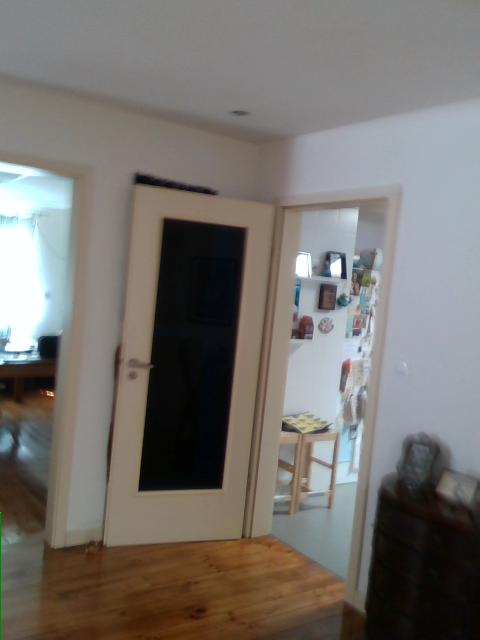open_door: (236, 183, 400, 603)
